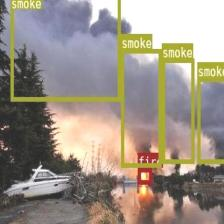fire: (137, 168, 152, 183)
smoke: (10, 0, 120, 100), (121, 49, 160, 167), (162, 58, 194, 162), (196, 77, 224, 163)
